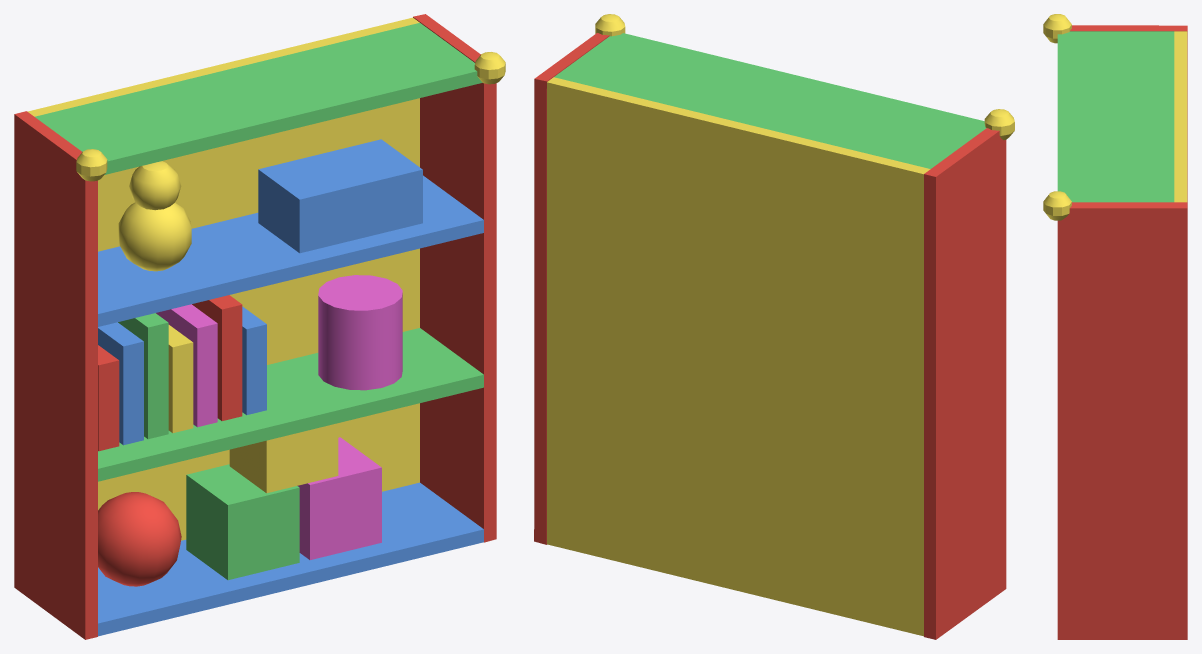
Rendered from Shelf_Cartoon.fbx.
3 renders of one model, left to right at view 1: azimuth 30°, elevation 25°; view 2: azimuth 150°, elevation 25°; view 3: azimuth 270°, elevation 25°, orthographic. The views are drawn at different scales.
Parts seen in each view (by area): view 1: Shelf_Cartoon; view 2: Shelf_Cartoon; view 3: Shelf_Cartoon.
Part boxes in pixels (x1=…): Shelf_Cartoon: x1=14, y1=14, x2=505, y2=639; Shelf_Cartoon: x1=534, y1=14, x2=1014, y2=639; Shelf_Cartoon: x1=1043, y1=14, x2=1187, y2=639.
Size of the model in its own units: 2.07 by 2.27 by 0.6686.
